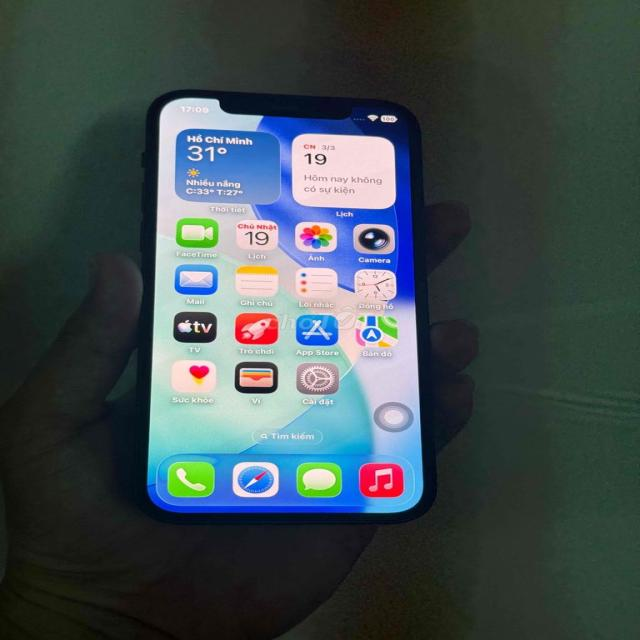gen_12_13: (136, 88, 431, 529)
